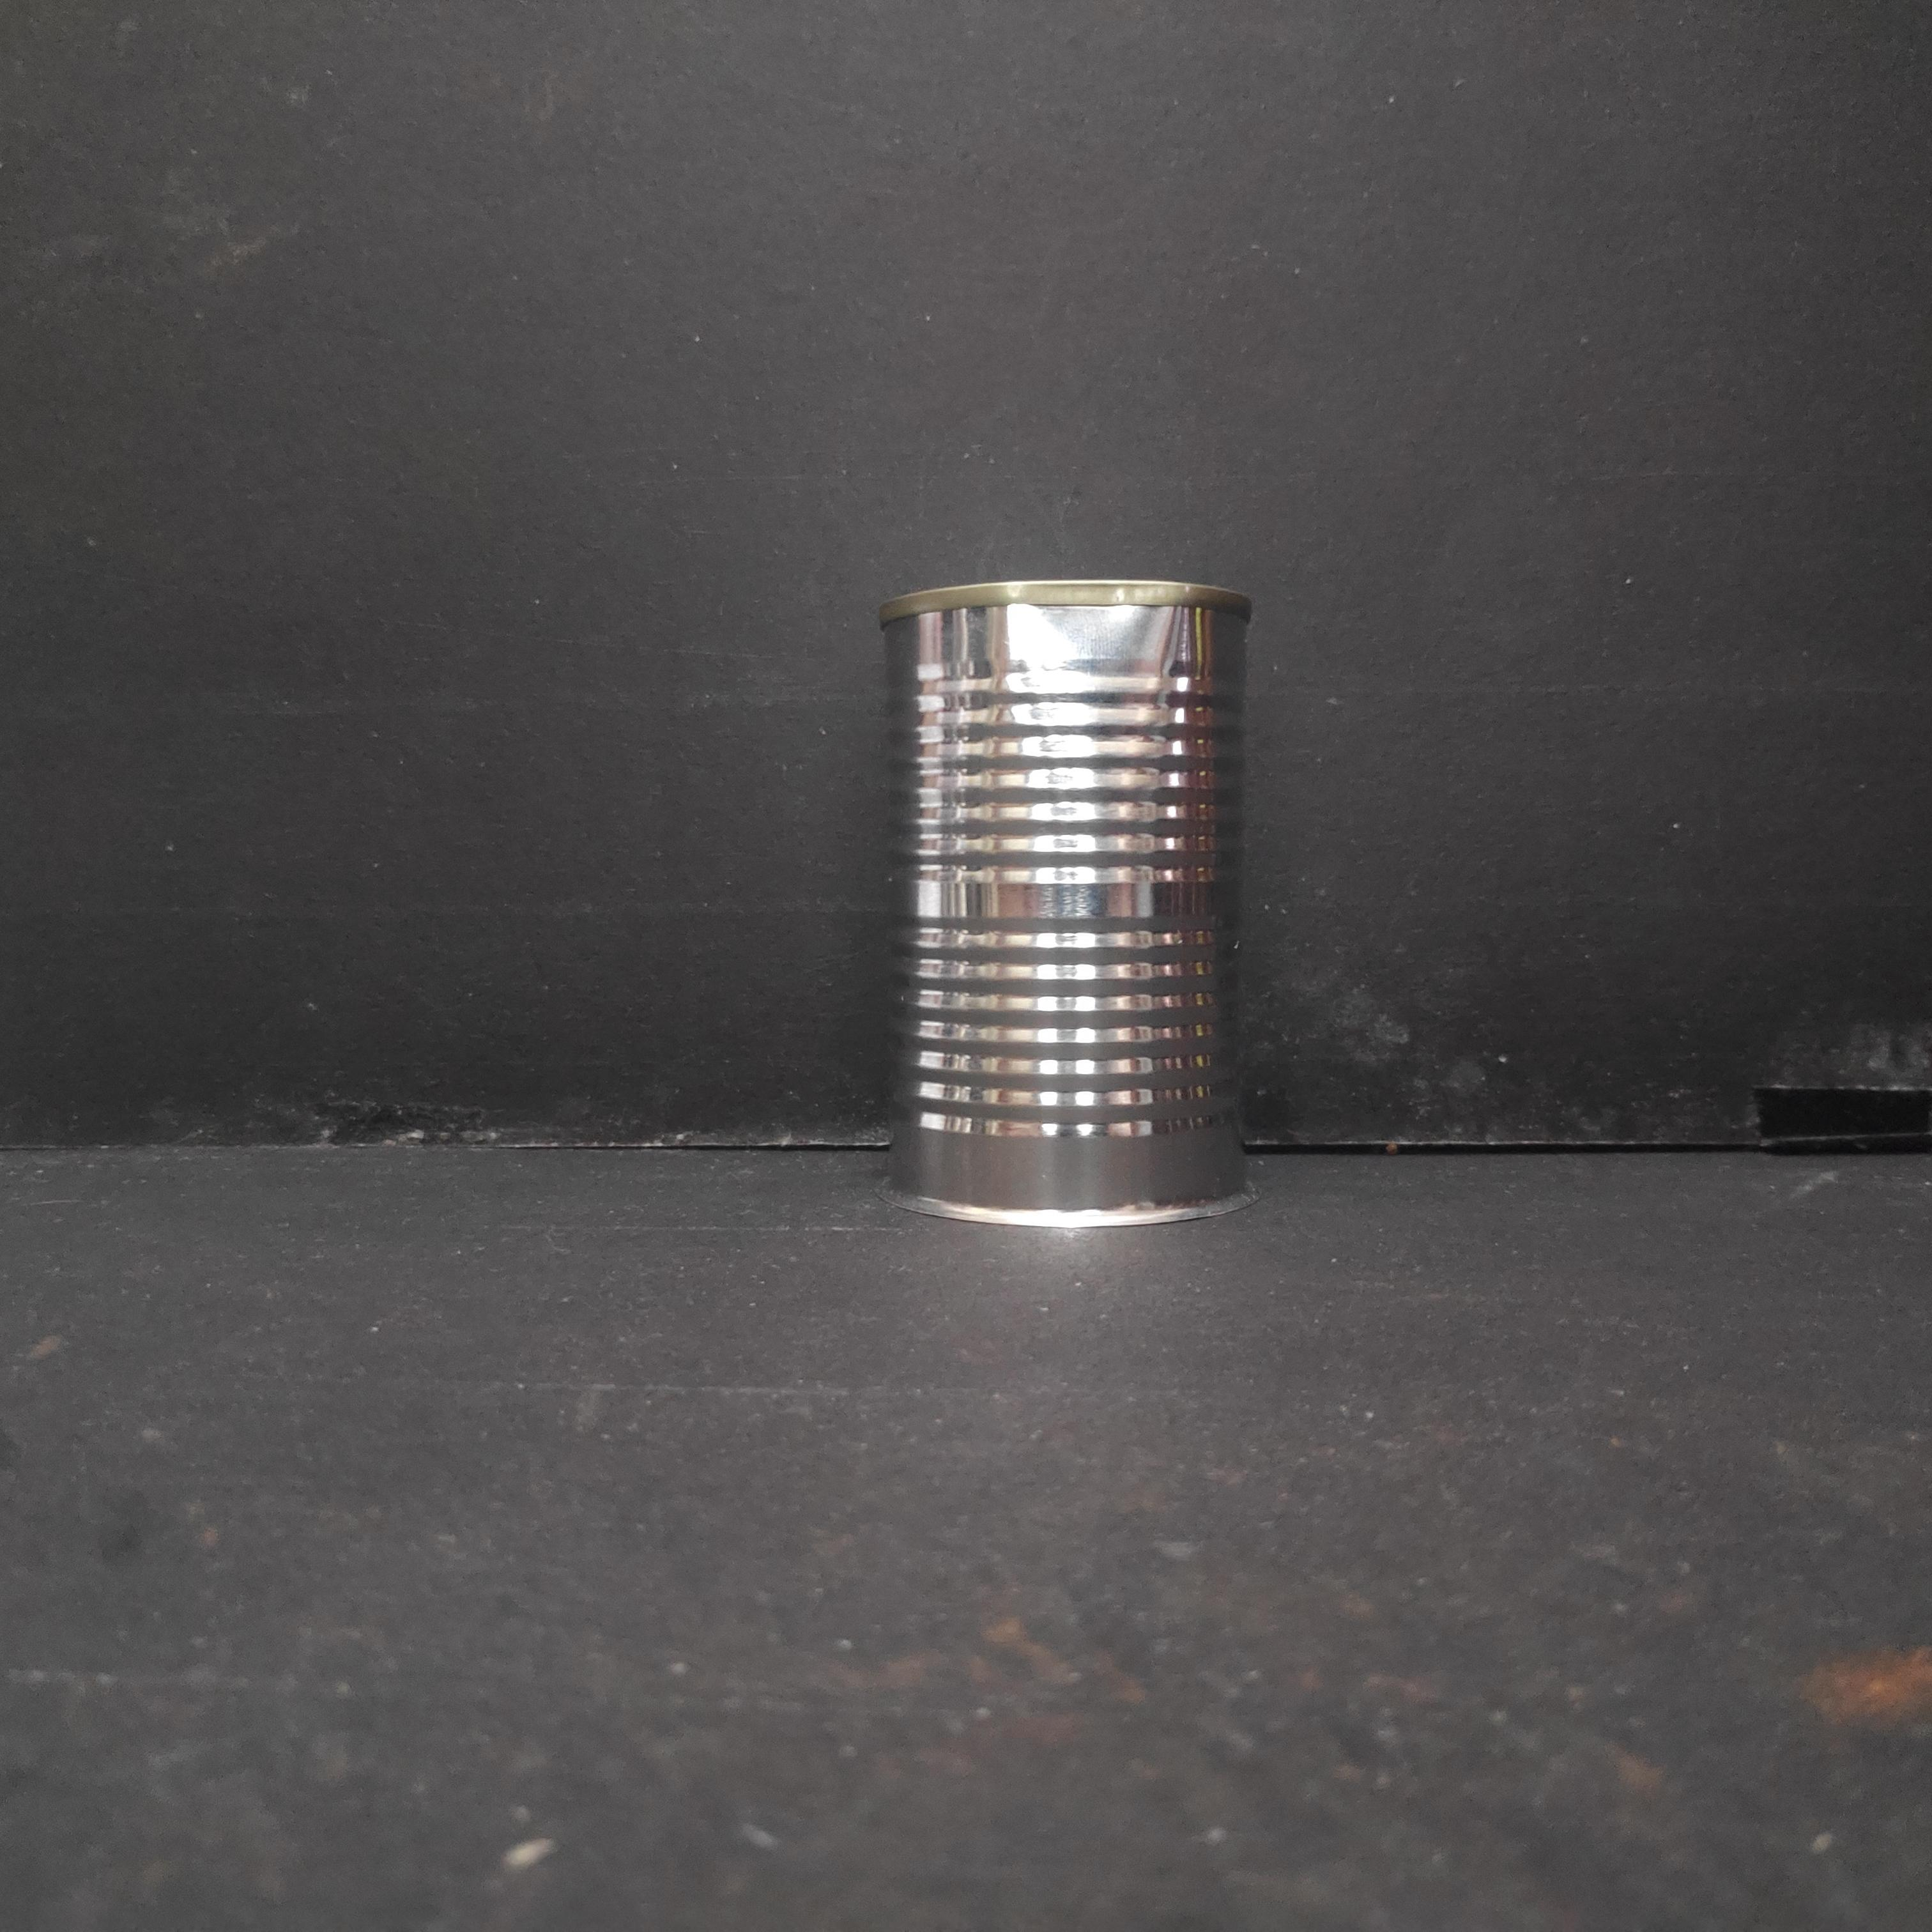Minor Defect: (867, 569, 1264, 1241)
